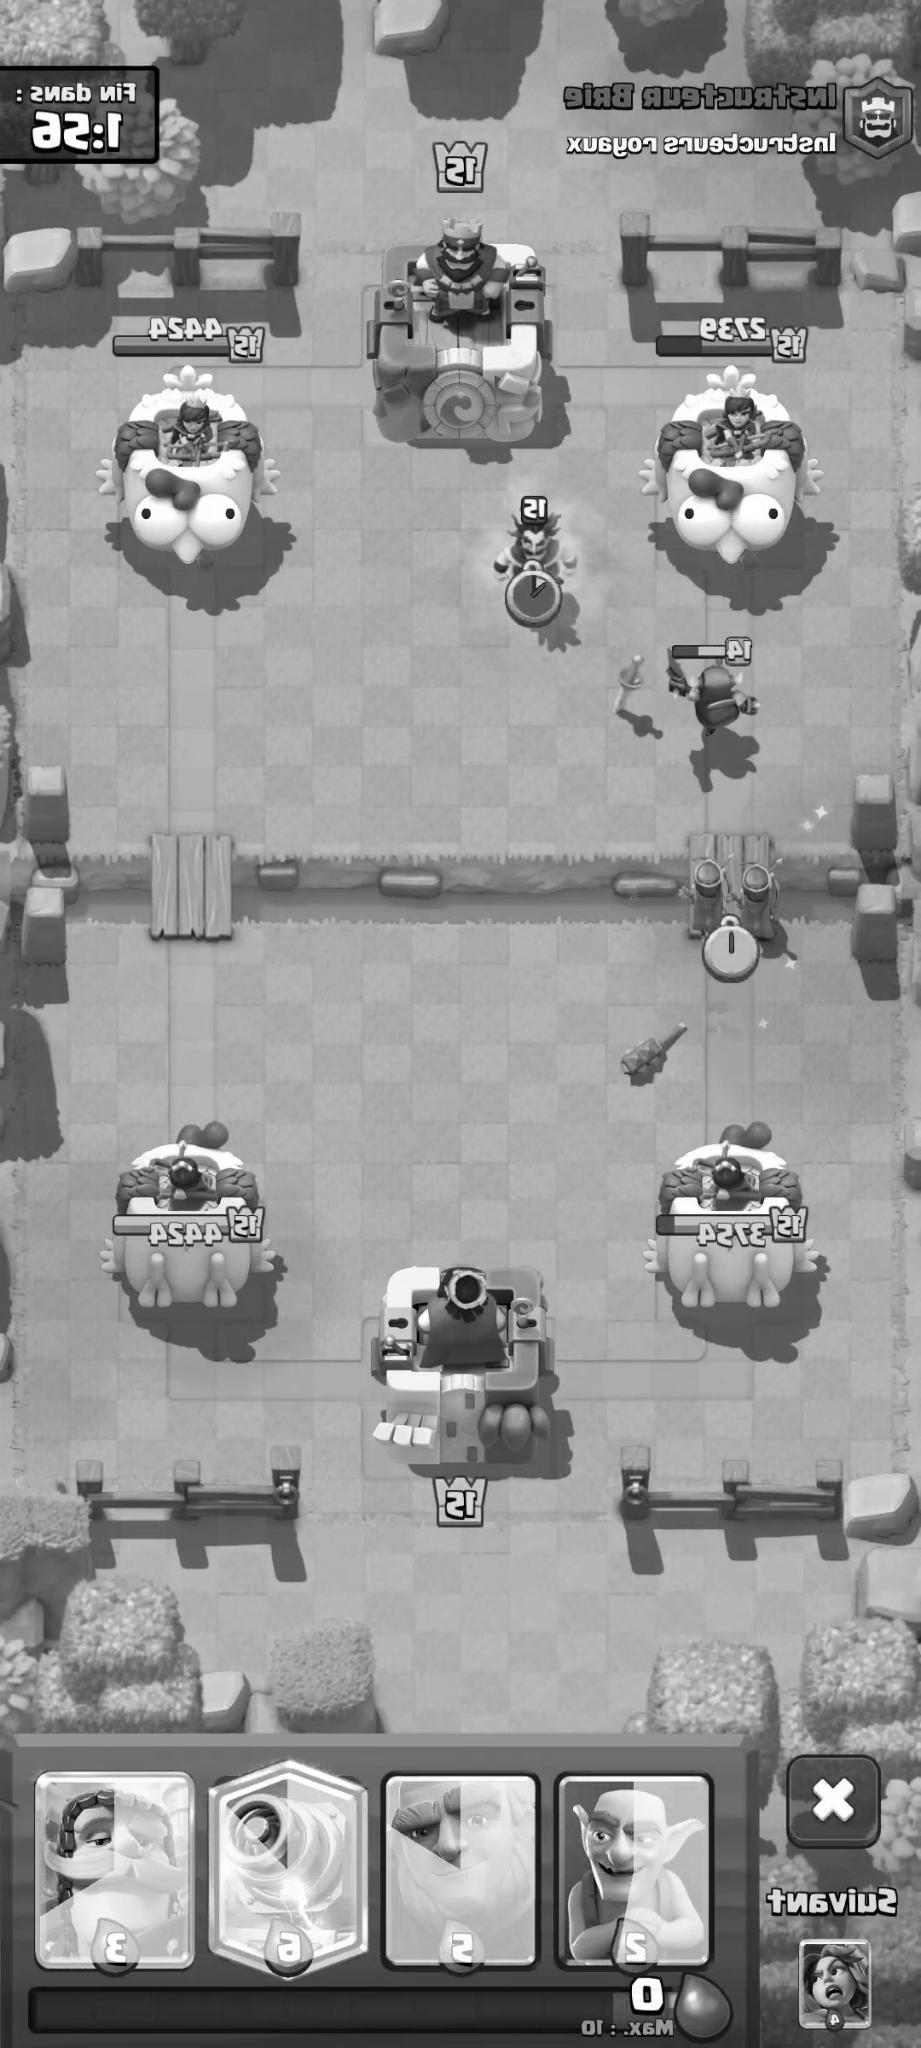archere: (665, 844, 742, 935), (735, 853, 784, 951)
mini_PEKKA: (647, 633, 773, 760)
